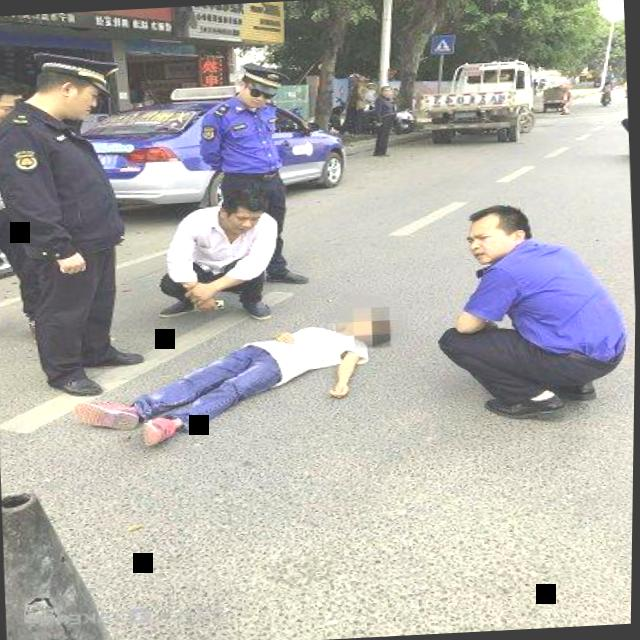Fall-Detected: (70, 296, 417, 452)
